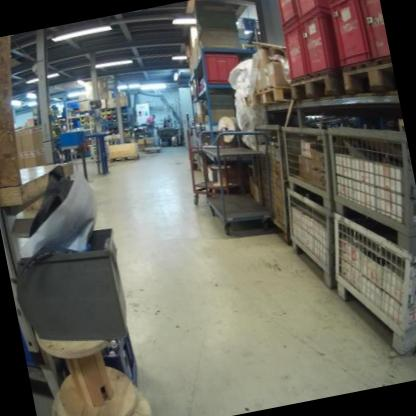pallet: (339, 56, 397, 100), (289, 69, 344, 105), (251, 82, 296, 111), (107, 150, 140, 166)
small_load_carrier: (322, 0, 373, 74), (294, 12, 341, 82), (198, 46, 248, 93), (277, 19, 310, 85), (360, 0, 390, 64), (295, 0, 360, 18), (276, 0, 302, 27)
stillage: (319, 194, 416, 370), (316, 103, 416, 271), (239, 119, 306, 255), (274, 178, 343, 300), (275, 117, 342, 219)
